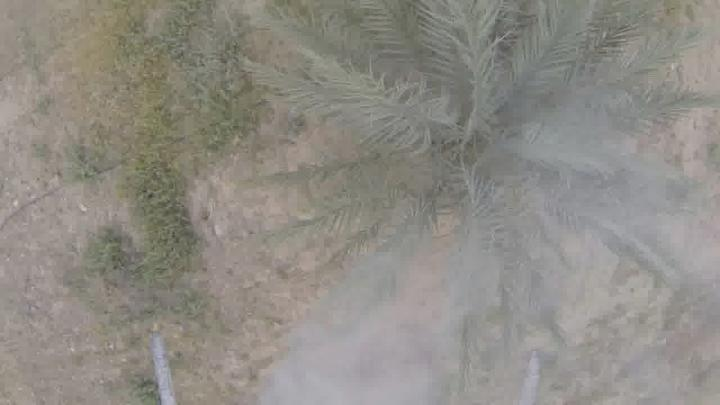Date-Palm-Crown: (354, 13, 646, 252)
